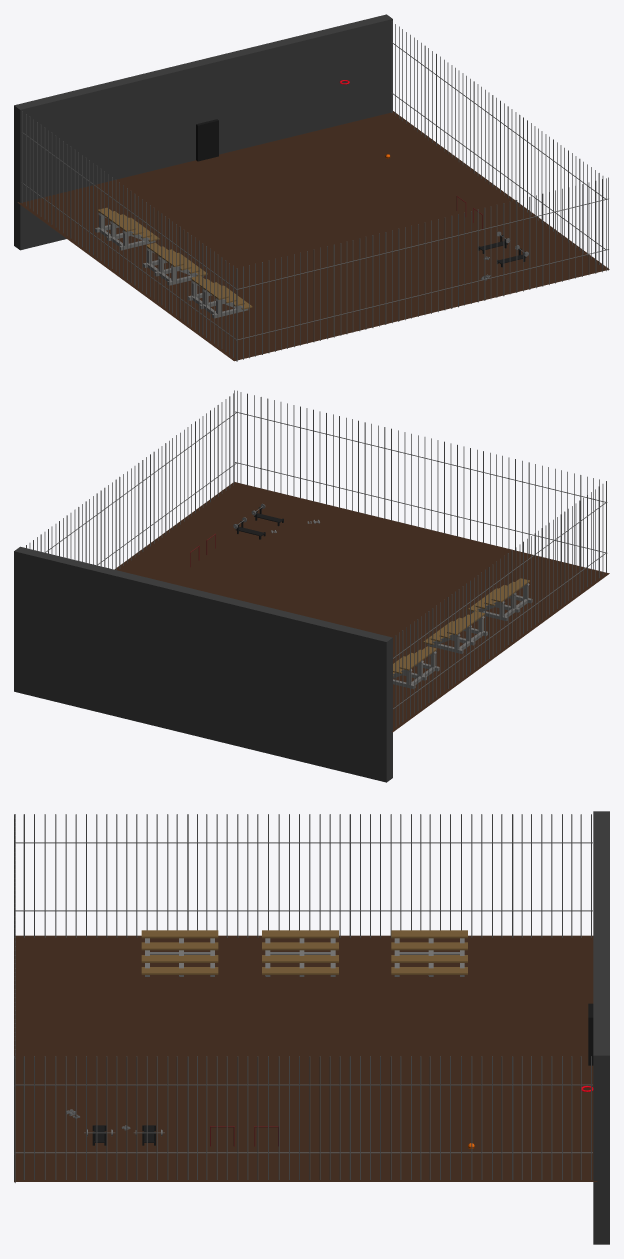
The model's file is Yard.fbx.
3 renders of one model, top to bottom at view 1: azimuth 30°, elevation 25°; view 2: azimuth 150°, elevation 25°; view 3: azimuth 270°, elevation 25°, orthographic. The views are drawn at different scales.
Visible parts, largest first — view 1: Plane, Cube, Cylinder.003, Cylinder.006, Cylinder.005, Cube.004, Cube.003, Cube.006, Cube.005; view 2: Cube, Plane, Cylinder.006, Cylinder.003, Cylinder.005, Cube.006, Cube.003, Cube.004; view 3: Plane, Cylinder.005, Cylinder.006, Cube, Cube.003, Cube.006, Cube.004, Cylinder.003.
Part boxes in pixels (x1,y1,x2,y2): Plane: (17, 111, 609, 361); Cube: (14, 14, 392, 250); Cylinder.003: (235, 177, 608, 360); Cylinder.006: (21, 111, 237, 361); Cylinder.005: (391, 21, 606, 271); Cube.004: (95, 207, 159, 250); Cube.003: (143, 242, 207, 285); Cube.006: (188, 275, 252, 318); Cube.005: (196, 119, 218, 161); Cube: (14, 546, 392, 782); Plane: (114, 482, 609, 732); Cylinder.006: (393, 481, 606, 727); Cylinder.003: (234, 390, 607, 572); Cylinder.005: (26, 390, 237, 569); Cube.006: (468, 578, 532, 621); Cube.003: (423, 611, 487, 653); Cube.004: (393, 646, 439, 689); Plane: (14, 935, 597, 1181); Cylinder.005: (14, 1056, 592, 1179); Cylinder.006: (14, 814, 592, 937); Cube: (593, 811, 609, 1244); Cube.003: (262, 930, 338, 976); Cube.006: (141, 930, 218, 976); Cube.004: (391, 930, 467, 976); Cylinder.003: (14, 814, 15, 1182).
Size of the model in its own units: 20892 by 7461 by 21349.
